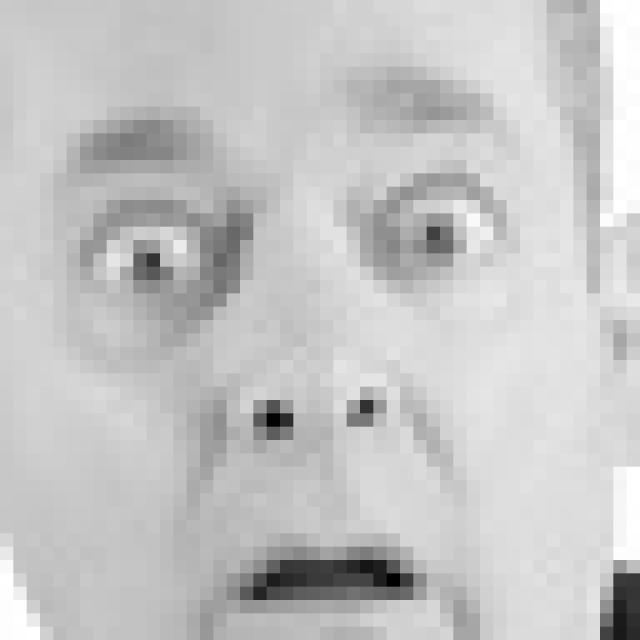fear: (58, 89, 539, 640)
